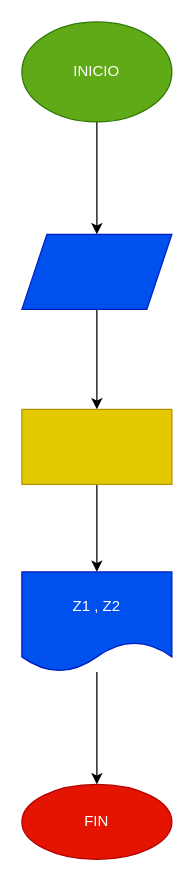
The diagram is 194 pixels wide and 881 high, and some of its shapes have lost their labels. Here are the shapes that lost their labels. From the top down, the box of each, then its label:
(21, 233, 172, 309): X , Y
(21, 408, 172, 484): Z 1 = (X * Y)/100 Z2 = Z1 + X
